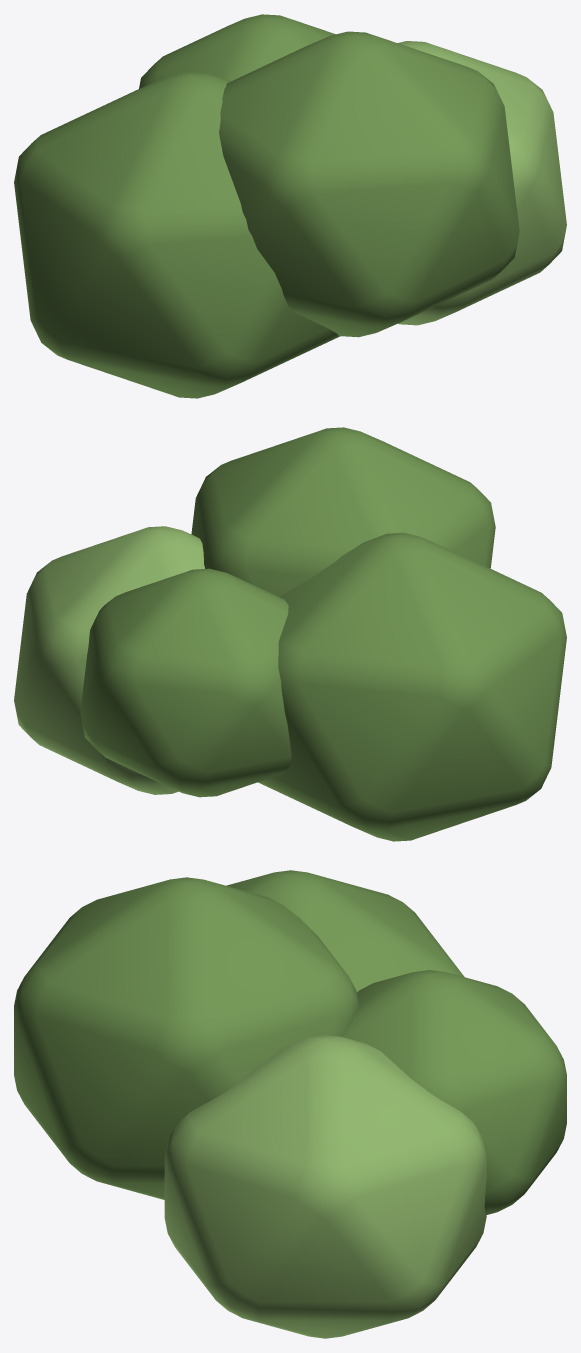
File: bush.glb
The picture shows the model from 3 angles, top to bottom: view 1: azimuth 30°, elevation 25°; view 2: azimuth 150°, elevation 25°; view 3: azimuth 270°, elevation 25°; orthographic projection. The views are drawn at different scales.
Visible parts, largest first — view 1: bush; view 2: bush; view 3: bush.
Part boxes in pixels (x1,y1,x2,y2): bush: (14,14,566,398); bush: (14,427,566,841); bush: (14,870,566,1338).
Bounding box in the file's own units: 0.9341 × 0.6199 × 0.7968.
